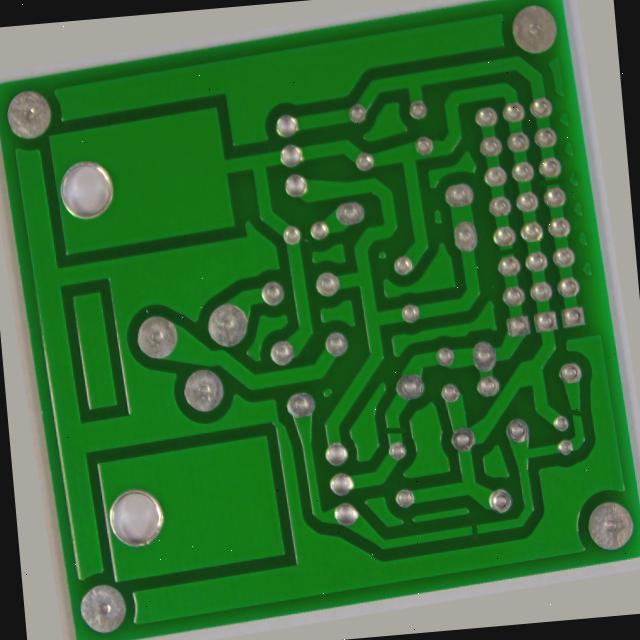open_circuit: (562, 180, 592, 199), (378, 434, 404, 454), (511, 251, 534, 271), (459, 547, 477, 570), (576, 431, 594, 449)
